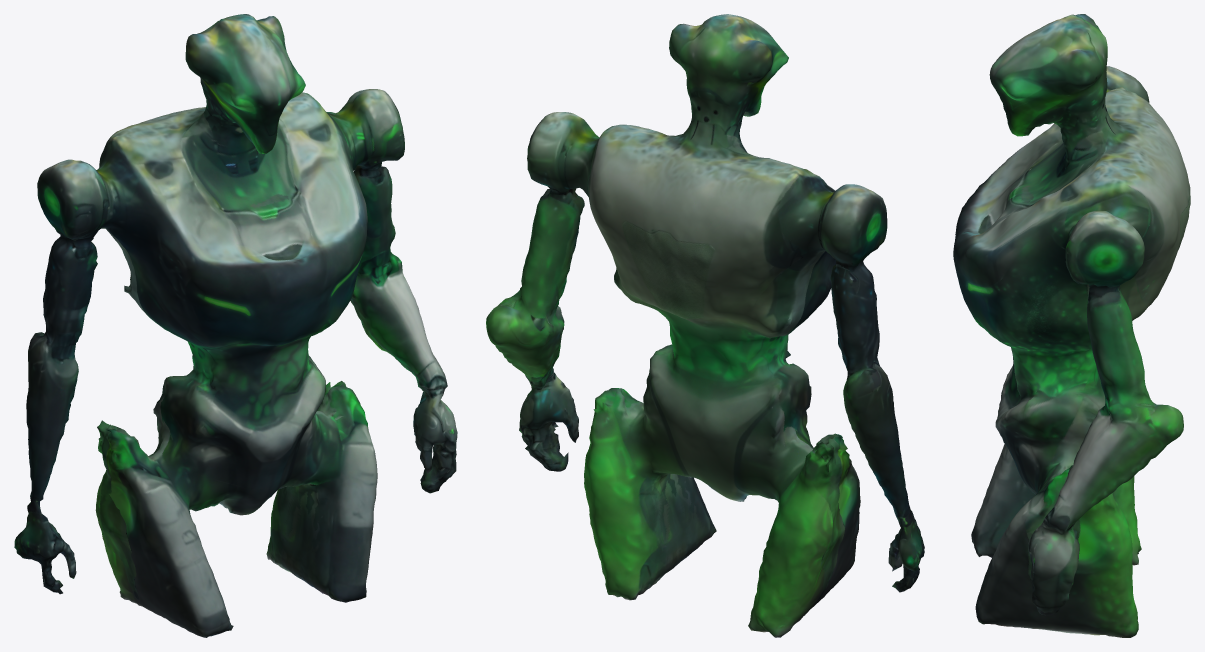
Rendered from robo.glb.
3 renders of one model, left to right at view 1: azimuth 30°, elevation 25°; view 2: azimuth 150°, elevation 25°; view 3: azimuth 270°, elevation 25°, orthographic.
Bounding box in the file's own units: 0.9003 × 1.2 × 0.4471.
Materials: 1 (1 with a texture image).
